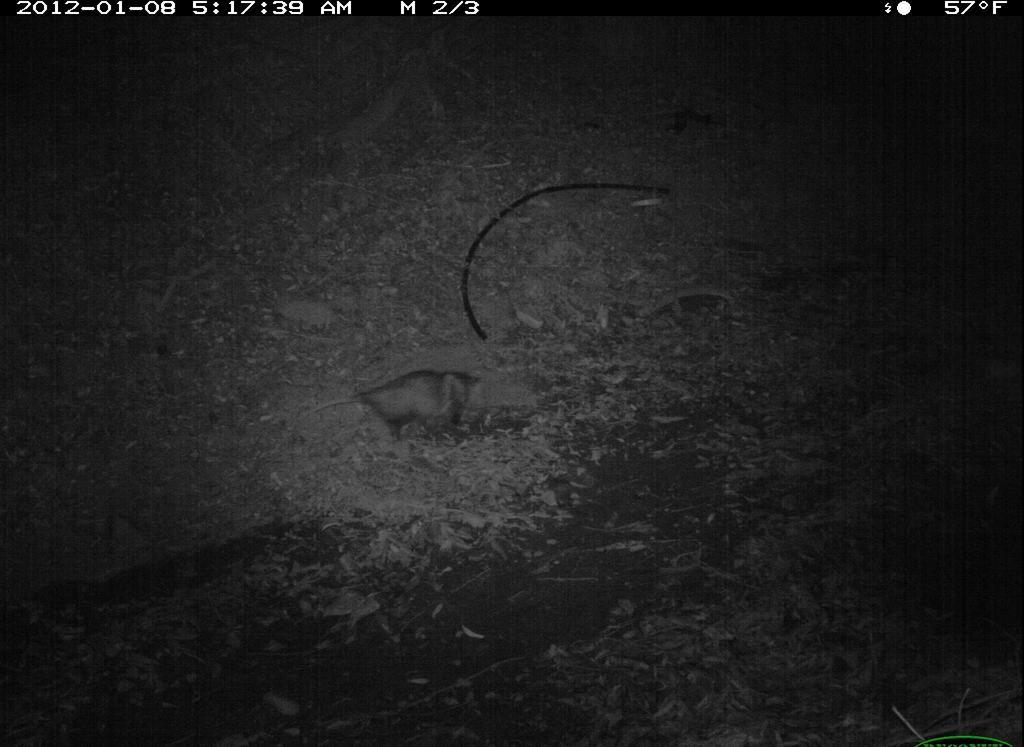opossum: (313, 367, 504, 450)
